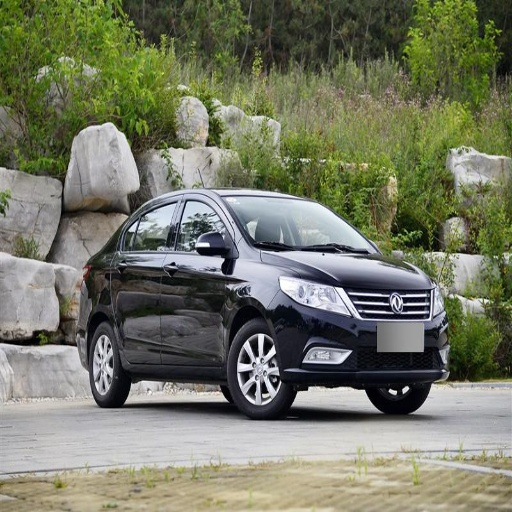front_bumper: (274, 288, 449, 387)
front_right_door: (164, 196, 236, 365)
front_right_light: (281, 273, 345, 311)
